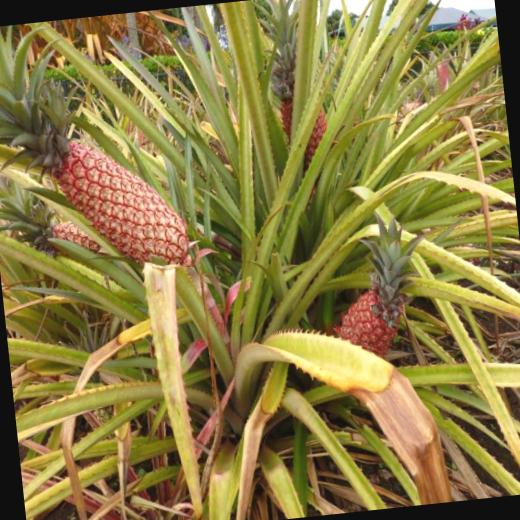Mango: (0, 8, 195, 288), (320, 208, 438, 363), (250, 0, 341, 190), (0, 156, 103, 272), (320, 41, 366, 142), (435, 45, 452, 91)
